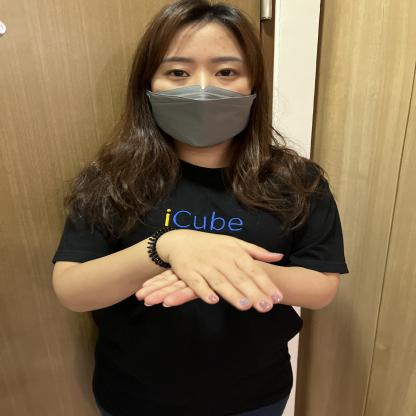Love: (49, 219, 372, 334)
